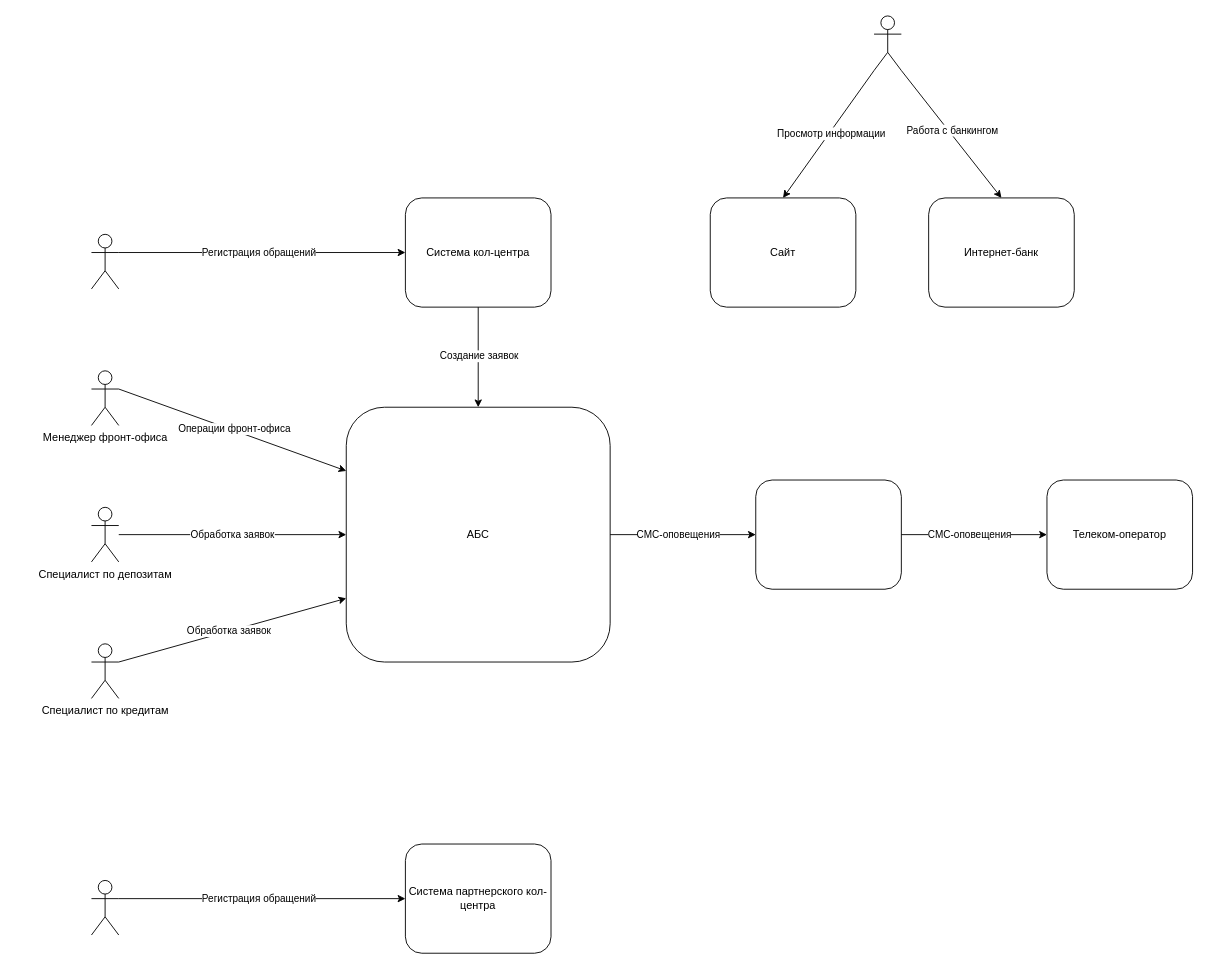
This 1208x970 diagram has some shape labels left out. The centre of each missing label's shape, as x and y in pixels:
"Клиент" belongs at point (887, 43).
"Оператор кол-центра" belongs at point (105, 261).
"Оператор партнерского кол-центра" belongs at point (105, 907).
"СМС-шлюз телеком оператора" belongs at point (828, 534).
